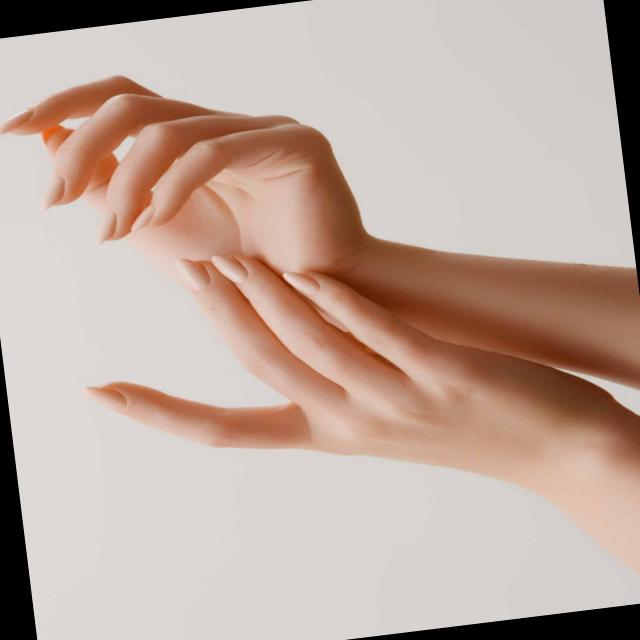Hand: (59, 208, 588, 540), (0, 36, 388, 359)
